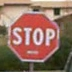stop: (7, 10, 60, 62)
